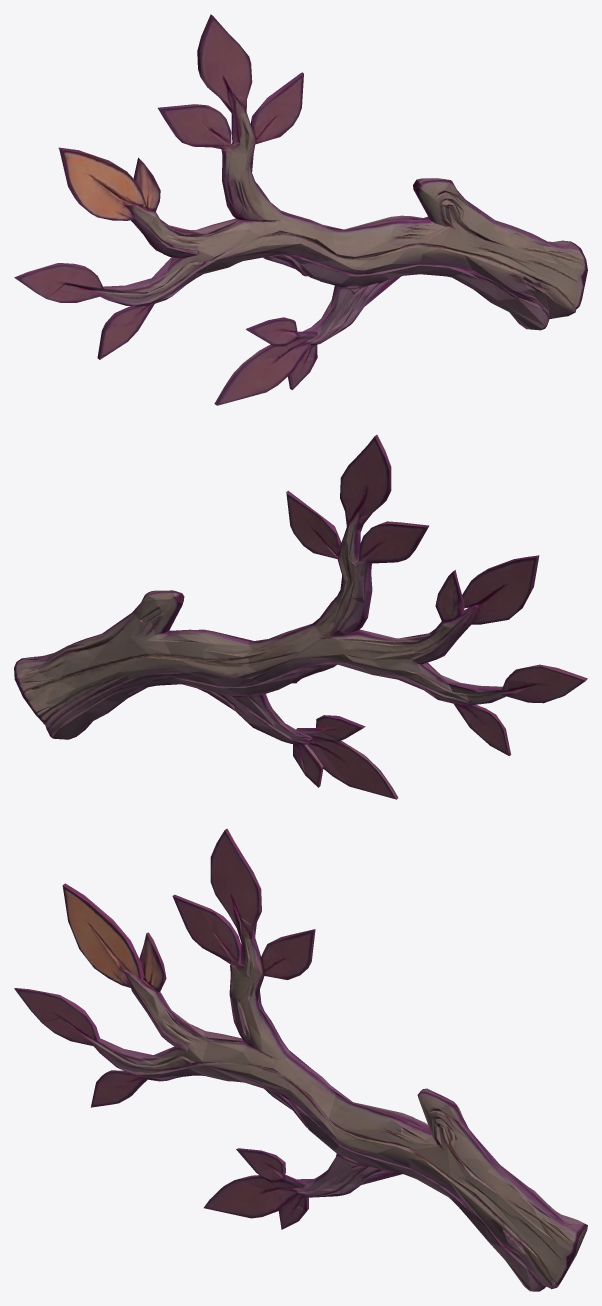
Rendered from fennal-bois-1.glb.
3 renders of one model, top to bottom at view 1: azimuth 30°, elevation 25°; view 2: azimuth 150°, elevation 25°; view 3: azimuth 330°, elevation 25°, orthographic.
Visible parts, largest first — view 1: geometry_0; view 2: geometry_0; view 3: geometry_0.
Part boxes in pixels (box(x1,y1,x2,y2)): geometry_0: box(14, 14, 587, 405); geometry_0: box(14, 434, 587, 799); geometry_0: box(14, 828, 587, 1291).
Bounding box in the file's own units: 1.89 × 1.23 × 0.1651.
1 material, 1 textured.
